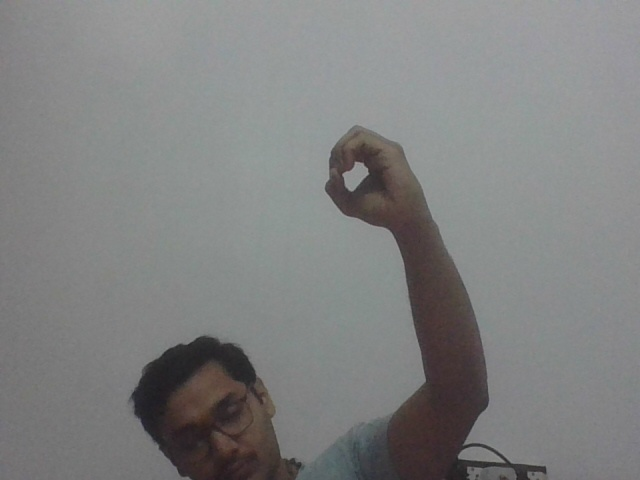O: (324, 120, 435, 230)
